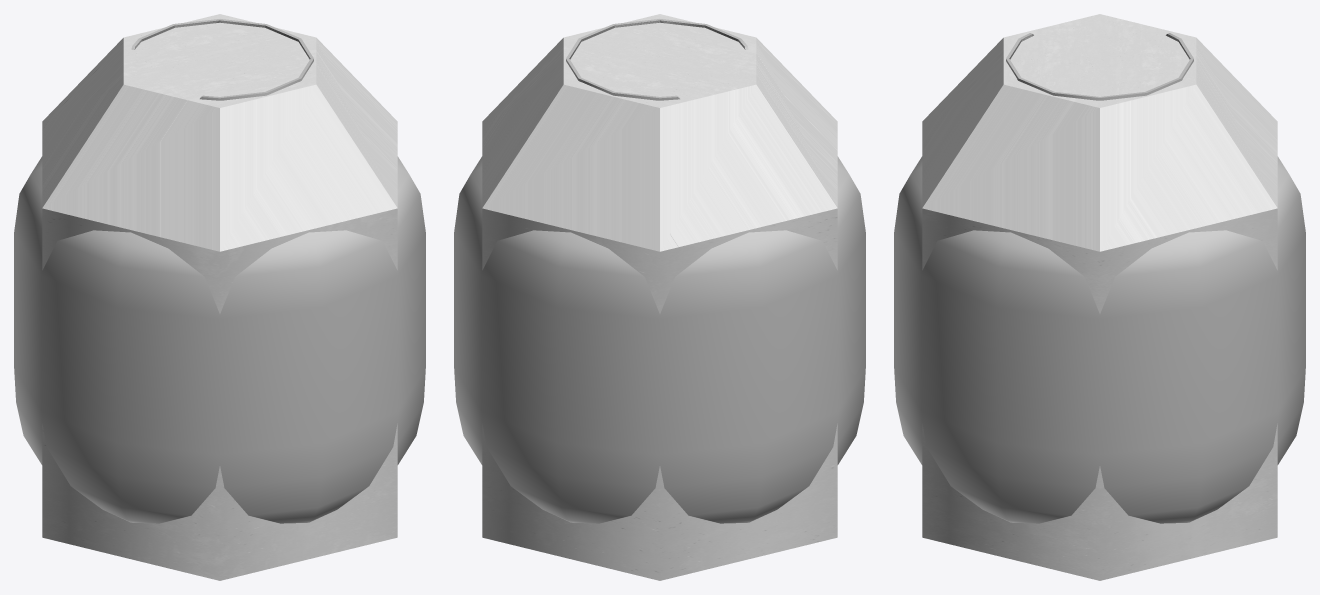
File: si_gas_tank.DAE
The picture shows the model from 3 angles, left to right: view 1: azimuth 30°, elevation 25°; view 2: azimuth 150°, elevation 25°; view 3: azimuth 270°, elevation 25°; orthographic projection.
Visible parts, largest first — view 1: si_gas_tank60, Colmesh-1; view 2: si_gas_tank60, Colmesh-1; view 3: si_gas_tank60, Colmesh-1.
Part boxes in pixels (x1,y1,x2,y2): si_gas_tank60: [14, 19, 425, 523]; Colmesh-1: [42, 14, 397, 580]; si_gas_tank60: [454, 19, 865, 523]; Colmesh-1: [482, 14, 837, 580]; si_gas_tank60: [894, 33, 1305, 523]; Colmesh-1: [922, 14, 1277, 580].
Bounding box in the file's own units: 60 × 60 × 70.07.
